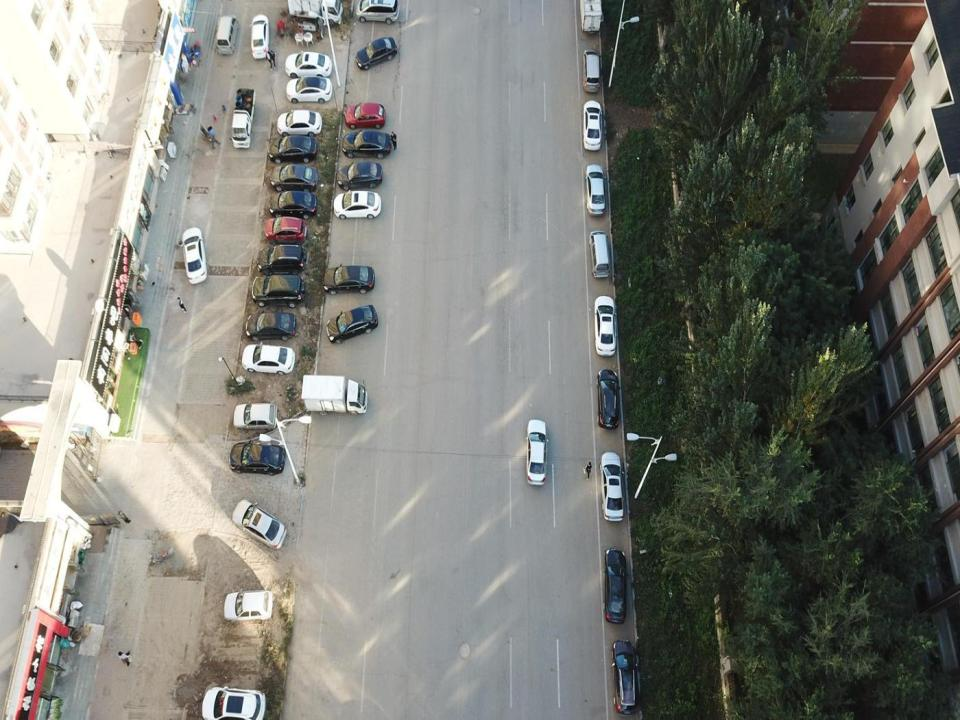car: (234, 500, 288, 549), (612, 637, 640, 718), (197, 687, 263, 719), (327, 303, 379, 343), (603, 546, 628, 627), (600, 453, 626, 524), (228, 443, 285, 474), (324, 262, 375, 296), (223, 590, 273, 622), (179, 229, 208, 284), (242, 344, 295, 374), (256, 245, 308, 275), (354, 36, 396, 72), (268, 133, 320, 162), (234, 401, 278, 434), (246, 311, 296, 340), (285, 50, 333, 80), (597, 369, 620, 430), (594, 295, 617, 356), (332, 192, 380, 220), (526, 419, 546, 486), (343, 131, 389, 160), (268, 190, 319, 216), (583, 163, 607, 218), (268, 165, 318, 191), (336, 163, 383, 189), (264, 218, 307, 244), (287, 79, 333, 103), (356, 0, 400, 25), (344, 101, 384, 128), (277, 114, 324, 136), (250, 13, 270, 59), (584, 102, 602, 153)
truck: (302, 376, 368, 417), (230, 85, 256, 148), (287, 0, 344, 25), (578, 0, 602, 37)
van: (251, 273, 305, 308), (589, 229, 611, 280), (216, 14, 236, 55), (584, 50, 602, 93)
